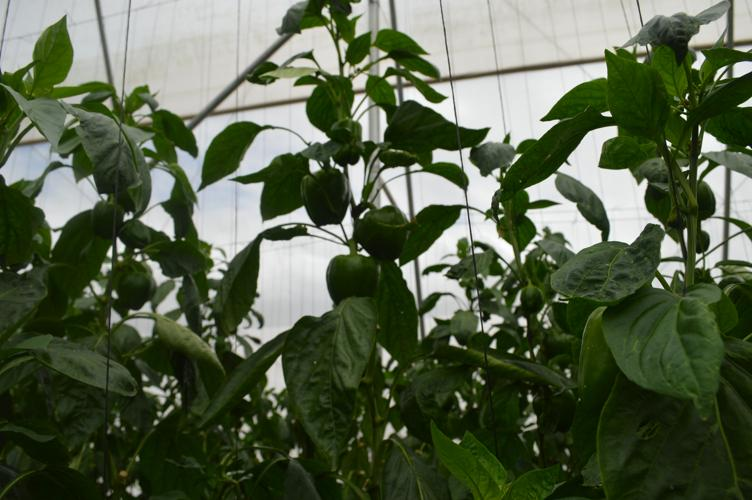BellPepper: (573, 304, 617, 401), (297, 169, 349, 224), (320, 257, 376, 301), (358, 207, 403, 255), (110, 264, 156, 310), (88, 202, 122, 235), (118, 224, 151, 250)
